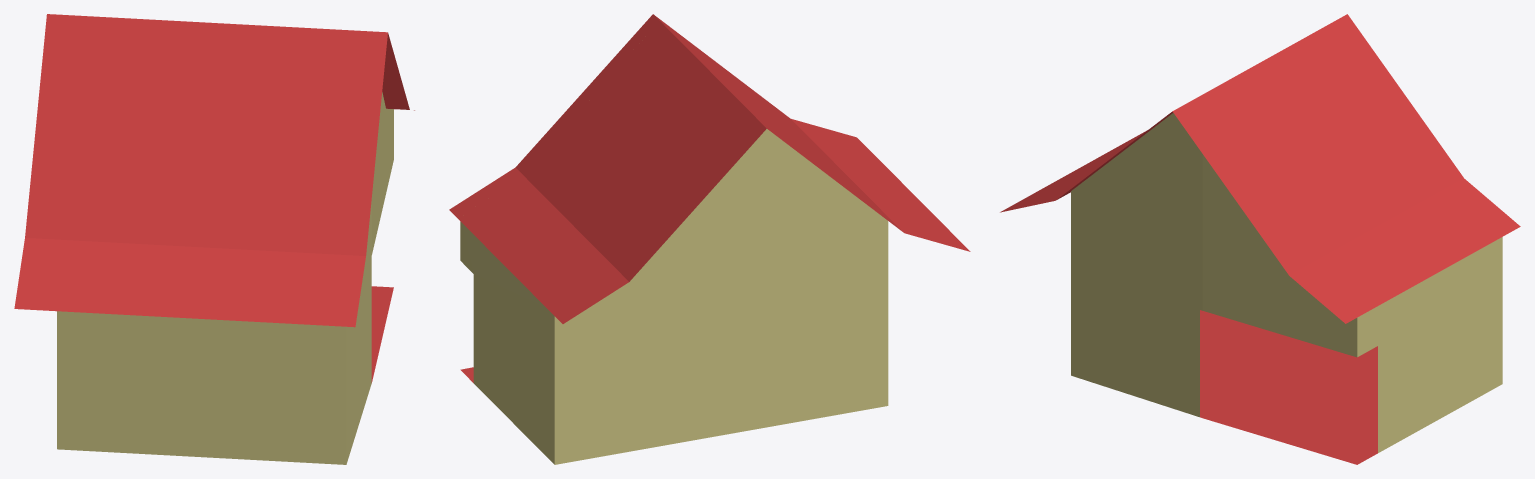
3 views of the same model, side by side, from view 1: azimuth 30°, elevation 25°; view 2: azimuth 150°, elevation 25°; view 3: azimuth 270°, elevation 25° (orthographic). The views are drawn at different scales.
Size of the model in its own units: 22.23 by 23.48 by 15.2.
